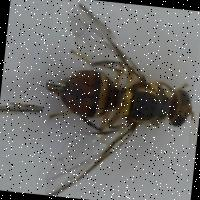Oriental-fruit-fly: (33, 0, 200, 200)
